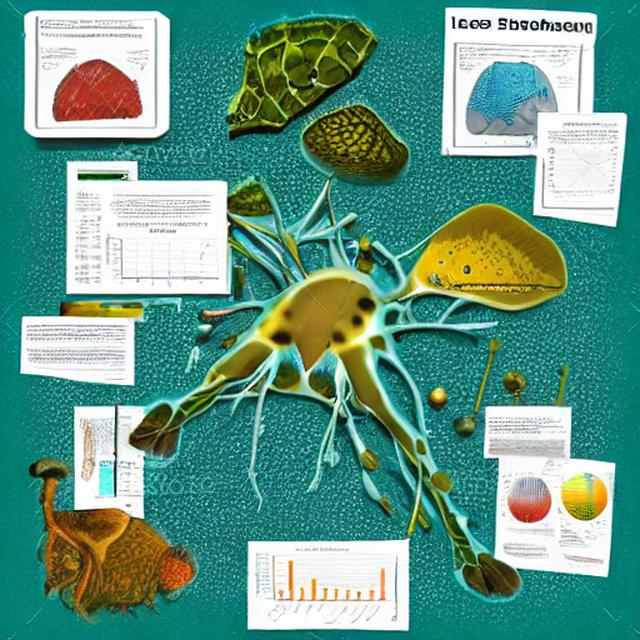Graph: (255, 546, 390, 626), (102, 219, 223, 292), (548, 171, 599, 201)
